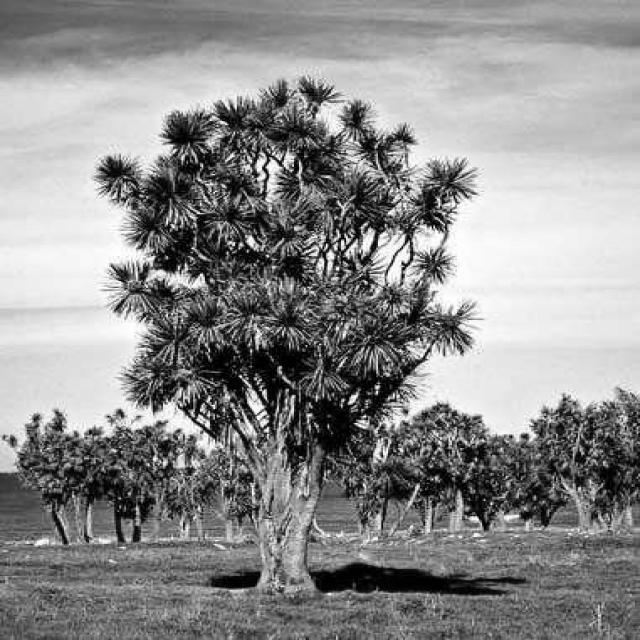Tree: (97, 78, 476, 590), (335, 390, 638, 532), (104, 410, 195, 541), (3, 410, 79, 544)
